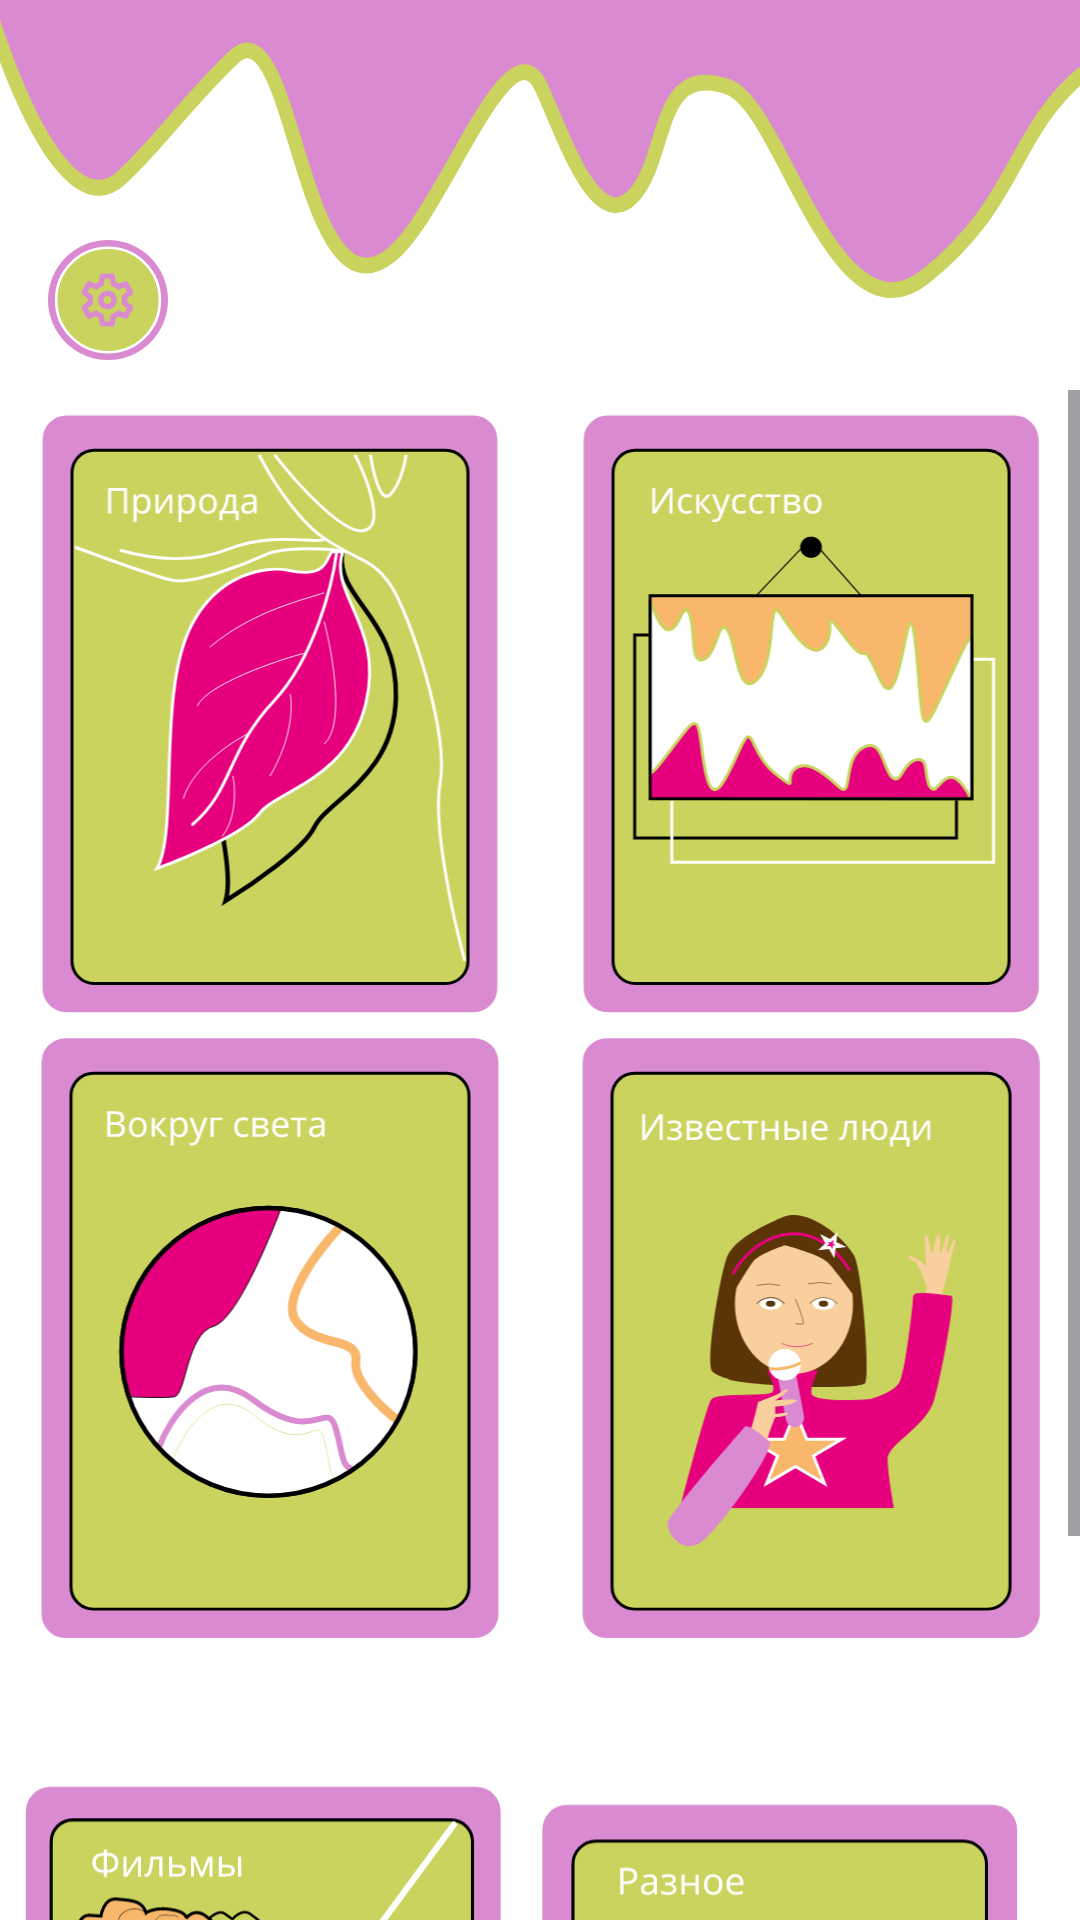

Where icons sit on this 1080*1920 app screen, as (x1, y1, x2, y2):
settings select category layout: (48, 240, 168, 360)
